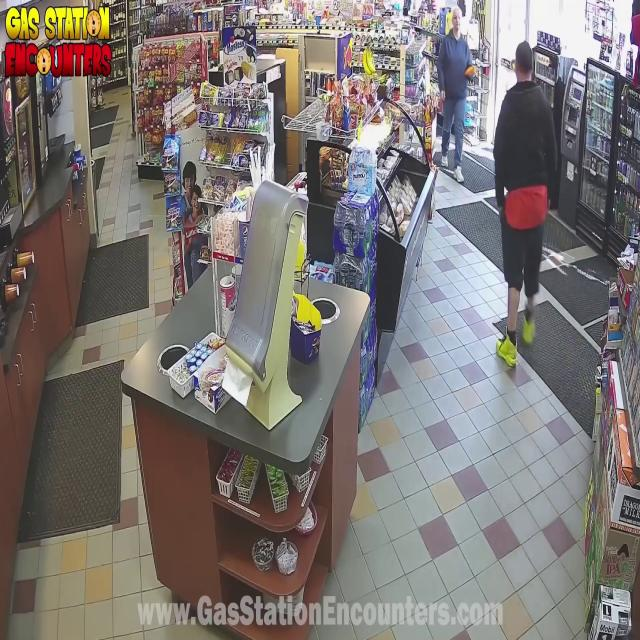Product: (460, 58, 474, 86)
normal: (480, 16, 572, 393)
shoplifting: (428, 3, 479, 187)
